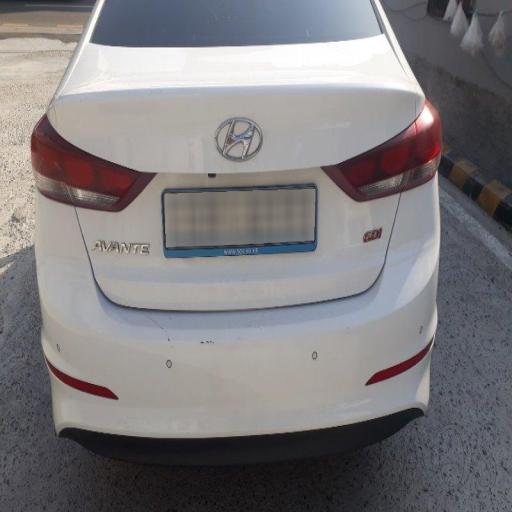dent: (151, 94, 293, 210)
